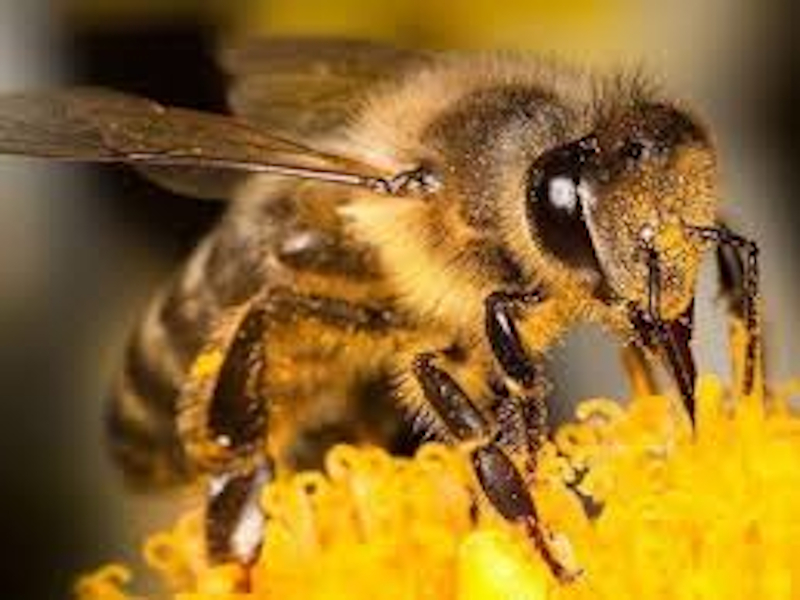abeja: (1, 13, 779, 587)
